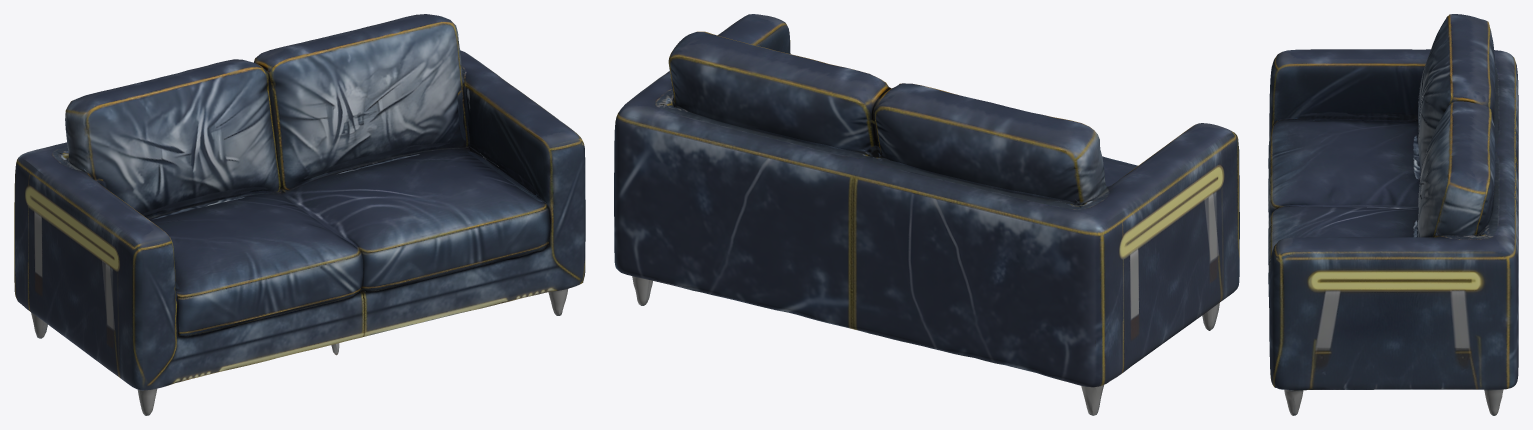
The picture shows the model from 3 angles, left to right: view 1: azimuth 30°, elevation 25°; view 2: azimuth 150°, elevation 25°; view 3: azimuth 270°, elevation 25°; orthographic projection. The views are drawn at different scales.
Visible parts, largest first — view 1: Object_4; view 2: Object_4; view 3: Object_4.
Boxes of the visible parts, x1,y1,x2,y2 form: Object_4: [14, 14, 585, 415]; Object_4: [614, 14, 1239, 415]; Object_4: [1268, 14, 1518, 415].
Bounding box in the file's own units: 1.91 × 0.9868 × 0.9774.
1 material, 1 textured.
